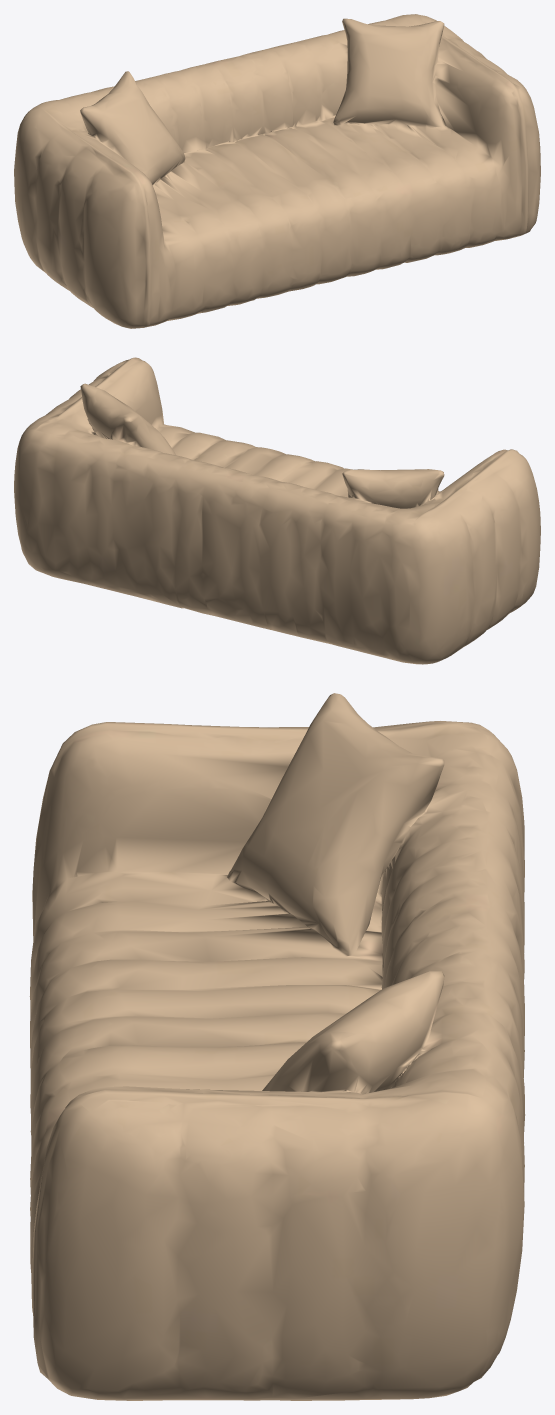
File: bMLF8UBsNysuBJzGH6lWx.glb
The picture shows the model from 3 angles, top to bottom: view 1: azimuth 30°, elevation 25°; view 2: azimuth 150°, elevation 25°; view 3: azimuth 270°, elevation 25°; orthographic projection. The views are drawn at different scales.
Parts seen in each view (by area): view 1: geometry_0; view 2: geometry_0; view 3: geometry_0.
Boxes of the visible parts, <box> form: geometry_0: <box>14,14,540,328</box>; geometry_0: <box>14,357,540,664</box>; geometry_0: <box>29,693,525,1400</box>.
Size of the model in its own units: 1 by 0.3615 by 0.4812.
Materials: 1 (1 with a texture image).
